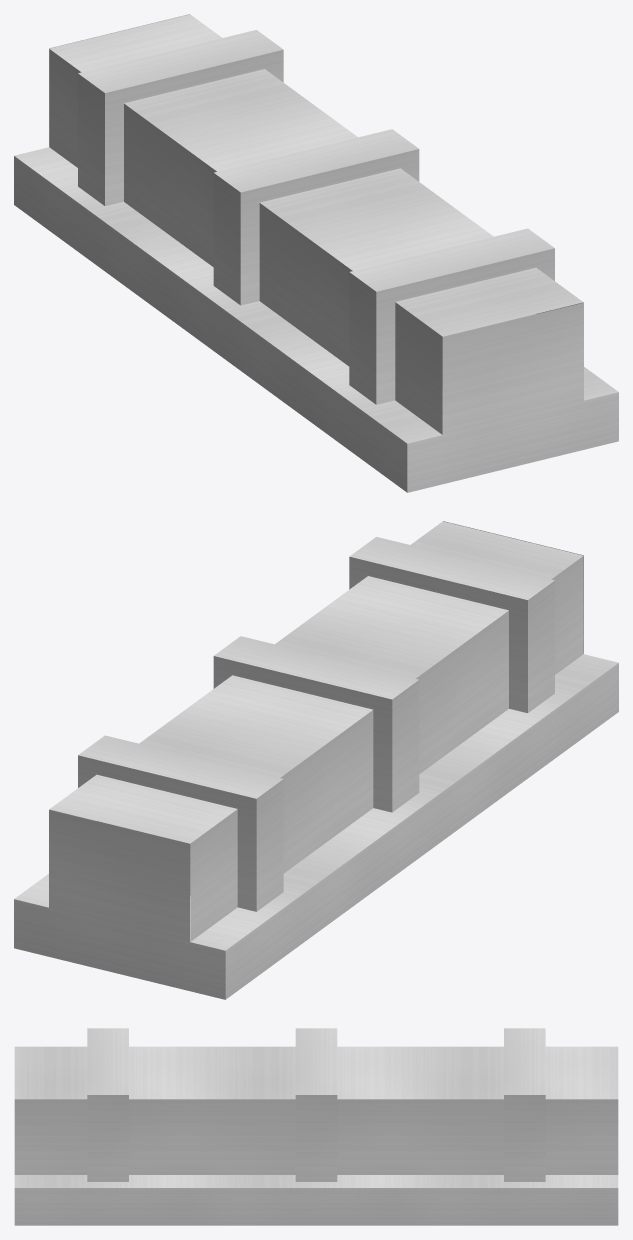
File: ship_beam.obj
The picture shows the model from 3 angles, top to bottom: view 1: azimuth 30°, elevation 25°; view 2: azimuth 150°, elevation 25°; view 3: azimuth 270°, elevation 25°; orthographic projection. The views are drawn at different scales.
Visible parts, largest first — view 1: ship_beam; view 2: ship_beam; view 3: ship_beam.
Part boxes in pixels (left/top/right/bottom): ship_beam: left=14, top=14, right=618, bottom=492; ship_beam: left=14, top=521, right=618, bottom=999; ship_beam: left=14, top=1028, right=618, bottom=1225.
Bounding box in the file's own units: 0.9 × 0.66 × 2.91.
